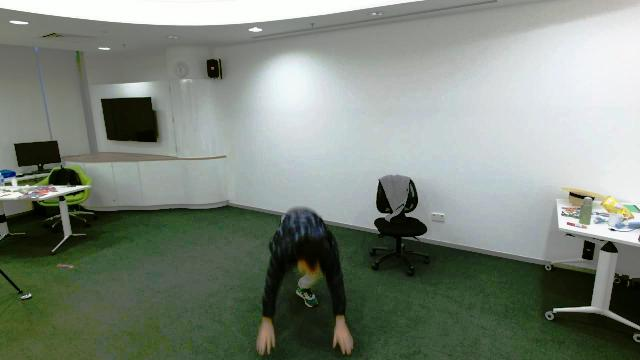jatuh: (256, 198, 358, 360)
